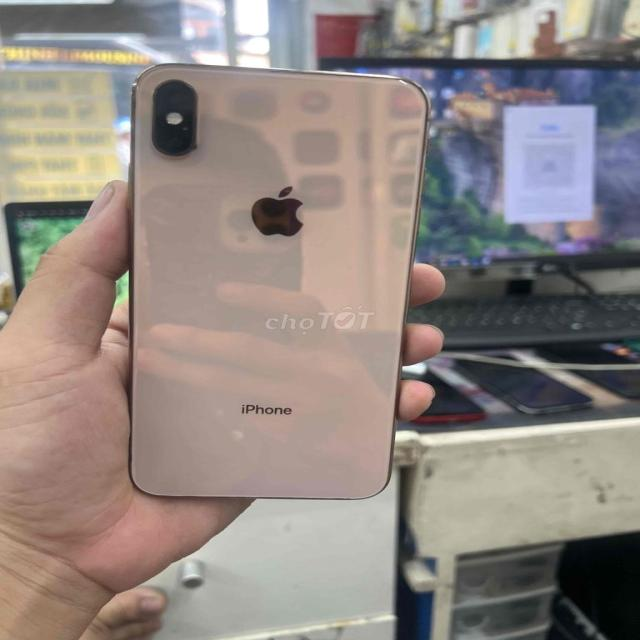gen_x_xs: (103, 53, 433, 506)
